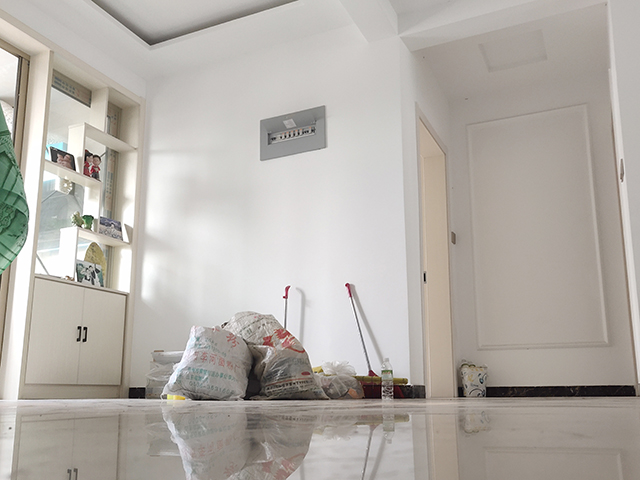cabinet: (20, 270, 135, 399)
trashcan: (457, 362, 490, 399)
